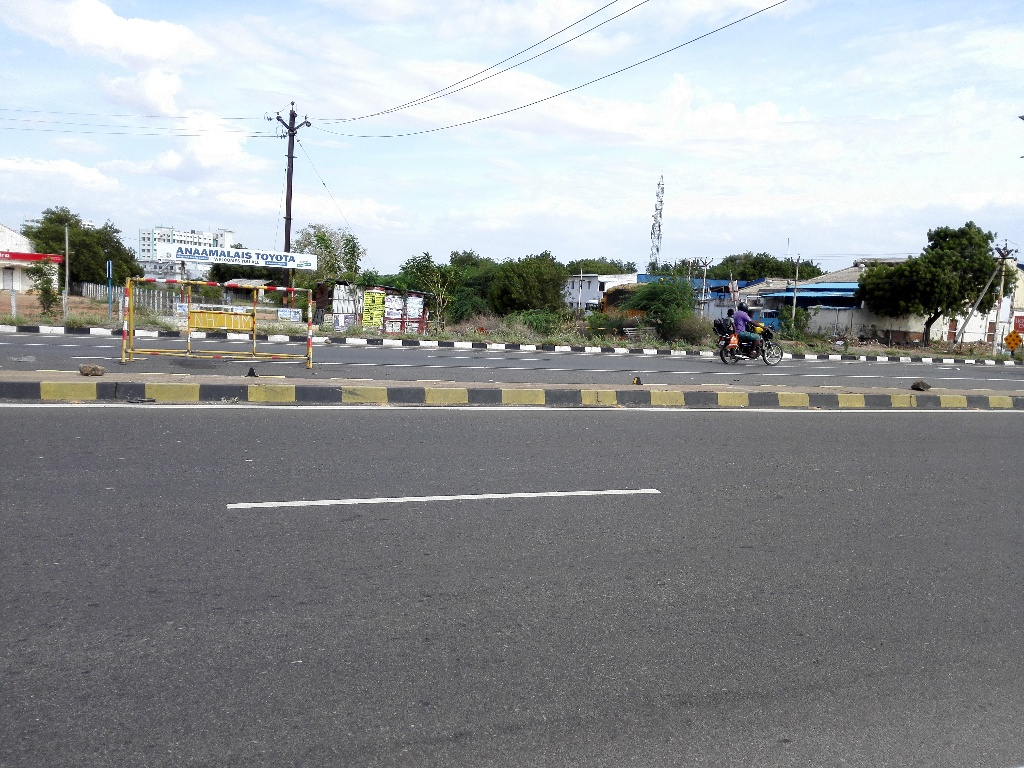biker: (707, 282, 789, 374)
helmet: (735, 298, 752, 319)
nohelmet: (725, 307, 738, 323), (748, 308, 758, 324)
